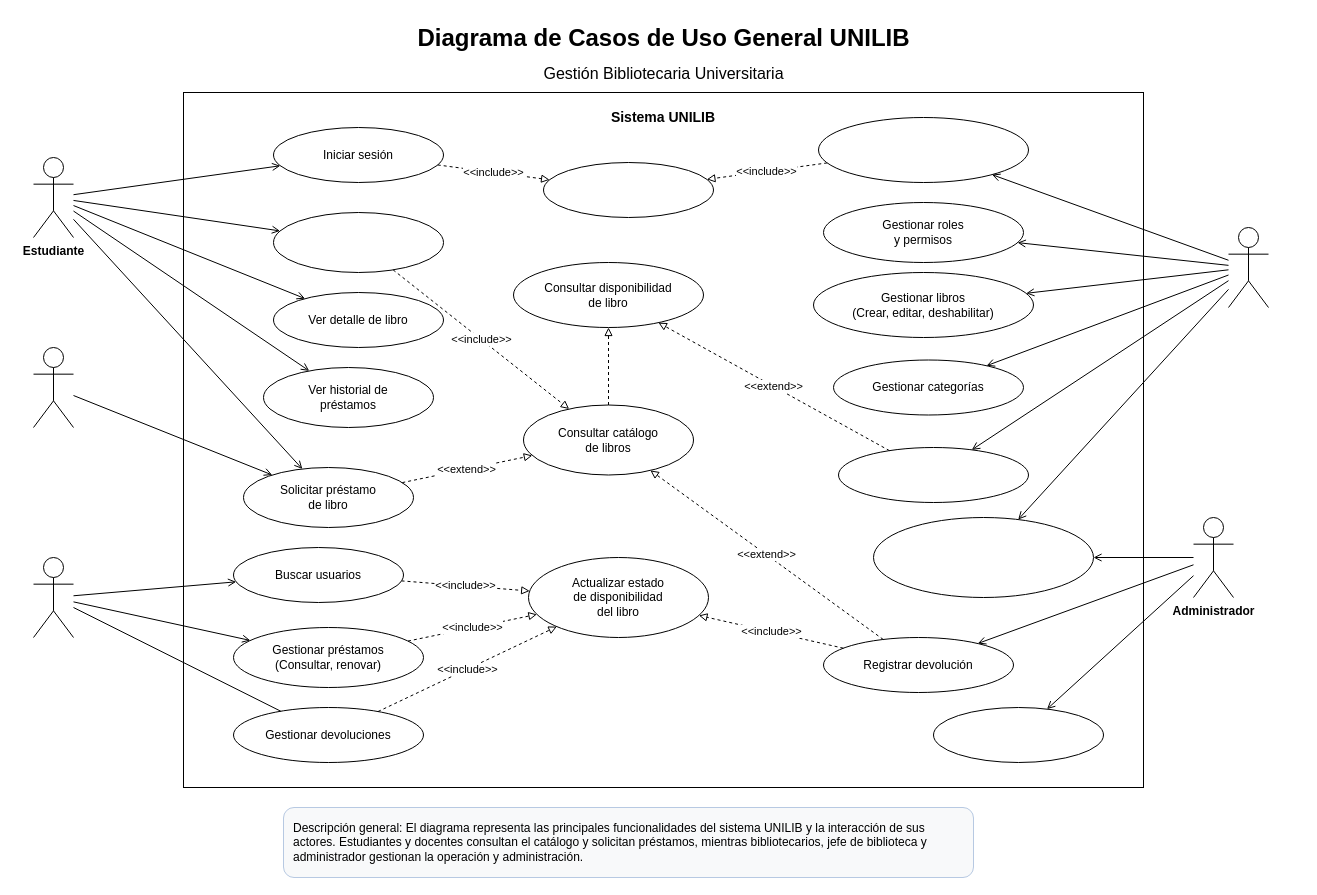
This 1317x895 diagram has some shape labels left out. Each missing label, with the centre of its shape:
Autenticar usuario: (628,190)
Bibliotecario: (53,597)
Buscar libros en el catálogo: (358,242)
Docente: (53,387)
Exportar reportes: (1018,734)
Generar reportes (Préstamos, usuarios, libros más solicitados): (983,557)
Gestionar usuarios (Crear, editar, desactivar): (923,149)
Jefe de Biblioteca: (1248,267)
Registrar préstamo: (933,474)
